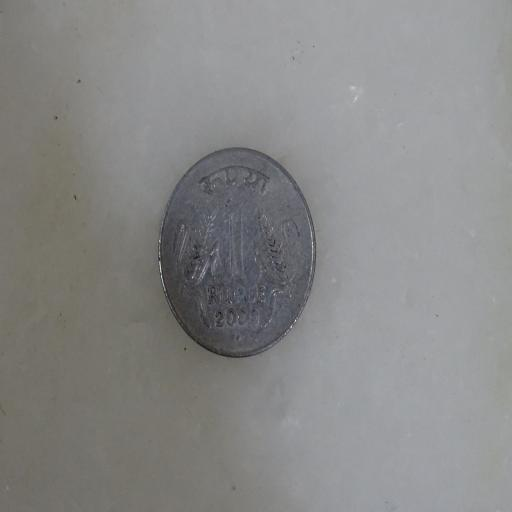rupee1: (156, 148, 315, 360)
